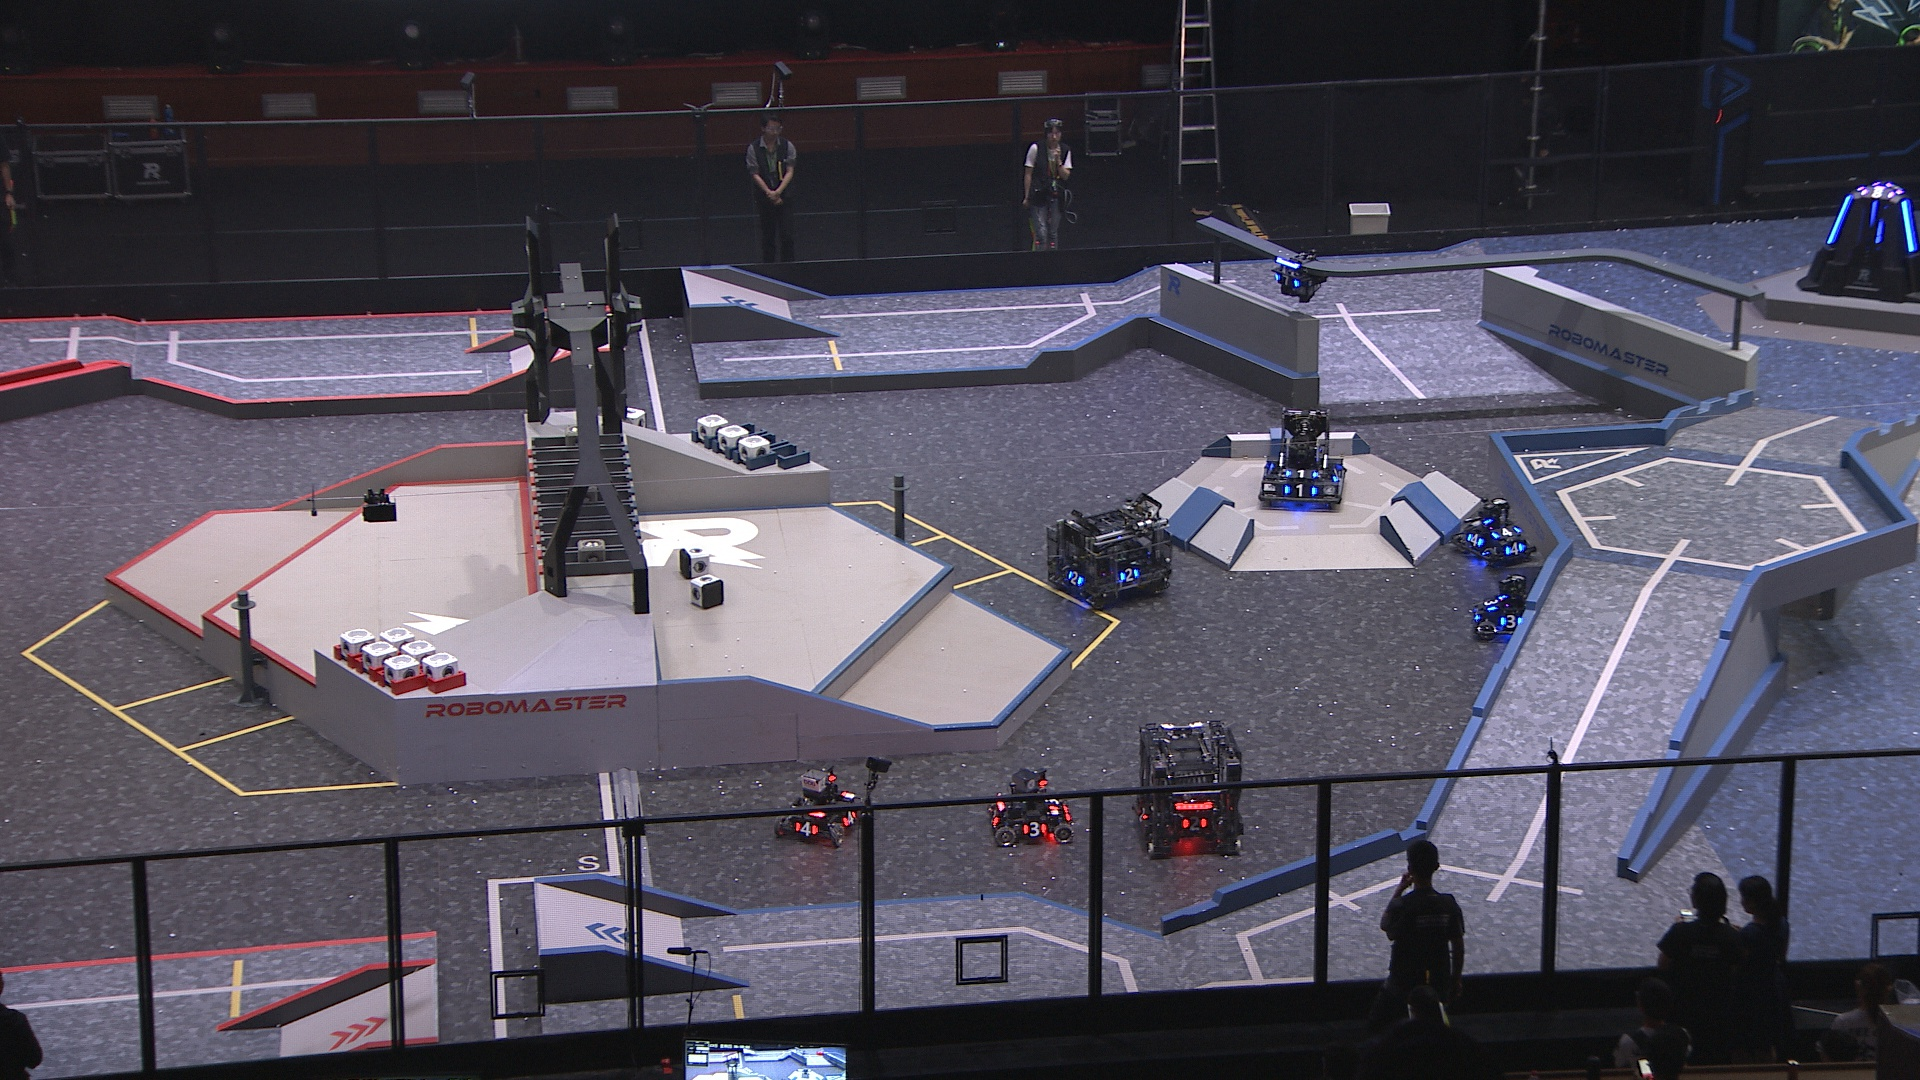armor: (1826, 196, 1850, 247), (1902, 199, 1917, 252), (1282, 483, 1321, 500), (1179, 815, 1211, 832), (1283, 467, 1320, 480), (1021, 822, 1048, 839), (1273, 273, 1302, 289), (1491, 526, 1523, 541), (1116, 566, 1139, 584), (793, 822, 822, 836), (1065, 570, 1087, 589), (1499, 613, 1524, 629), (1466, 533, 1487, 551), (986, 808, 1002, 829), (1503, 541, 1524, 556), (1481, 597, 1503, 612), (1873, 220, 1884, 245), (840, 811, 858, 827), (1043, 796, 1060, 812), (1135, 806, 1150, 823), (1468, 605, 1482, 621), (1329, 469, 1342, 485)
base: (1795, 177, 1920, 305)
car: (1131, 717, 1249, 856), (1046, 491, 1178, 608), (1253, 406, 1352, 513), (775, 766, 870, 851), (981, 767, 1079, 849), (1452, 493, 1538, 566), (1465, 574, 1545, 642)
ignore: (1861, 186, 1898, 200)
watcher: (1267, 248, 1328, 309)
